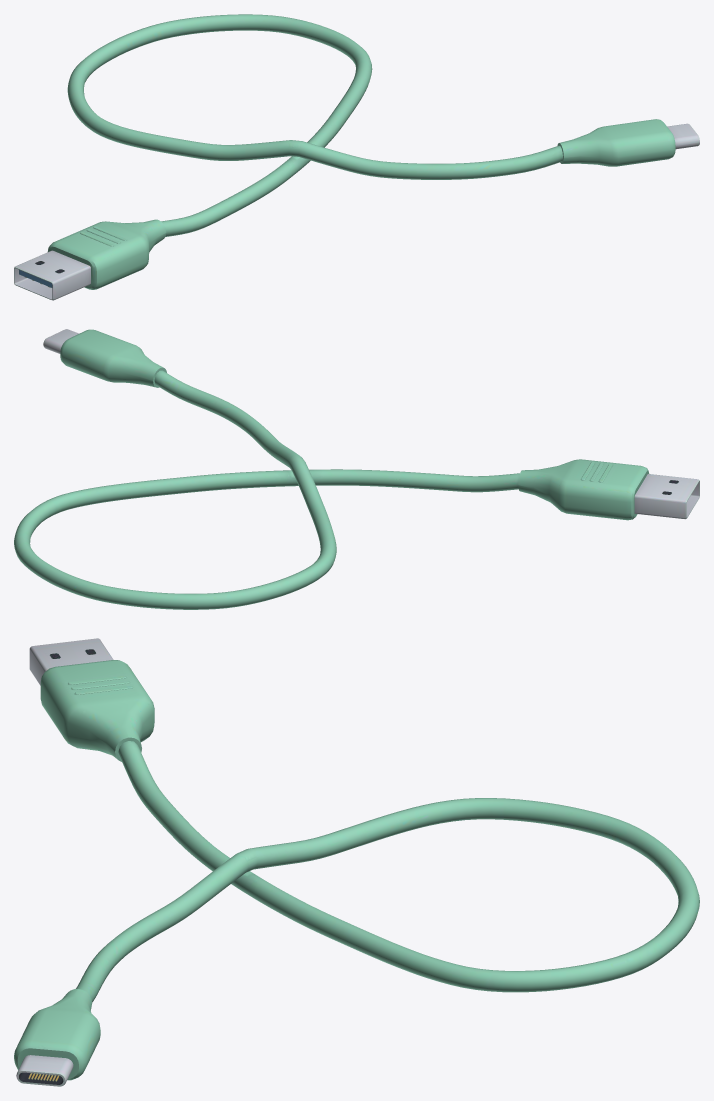
The model's file is usb_cable.glb.
3 renders of one model, top to bottom at view 1: azimuth 30°, elevation 25°; view 2: azimuth 150°, elevation 25°; view 3: azimuth 270°, elevation 25°, orthographic. The views are drawn at different scales.
Parts seen in each view (by area): view 1: usb-cable_body; view 2: usb-cable_body; view 3: usb-cable_body.
Boxes of the visible parts, x1=… form: usb-cable_body: x1=14, y1=14, x2=699, y2=300; usb-cable_body: x1=14, y1=329, x2=699, y2=609; usb-cable_body: x1=14, y1=638, x2=699, y2=1086.
Size of the model in its own units: 0.1644 by 0.00832 by 0.1117.
Materials: 1 (1 with a texture image).
